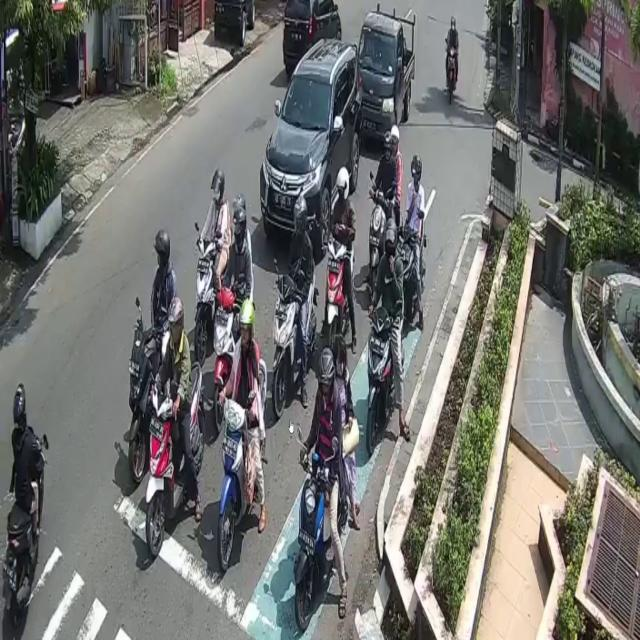bus: (147, 360, 203, 562), (220, 356, 268, 562), (3, 425, 45, 631), (272, 264, 316, 432), (128, 321, 162, 487), (300, 450, 331, 631), (365, 307, 394, 459), (194, 226, 216, 357), (327, 240, 352, 349), (447, 42, 458, 106)
motorcycle: (261, 38, 363, 250), (356, 11, 414, 138), (282, 0, 342, 67)
